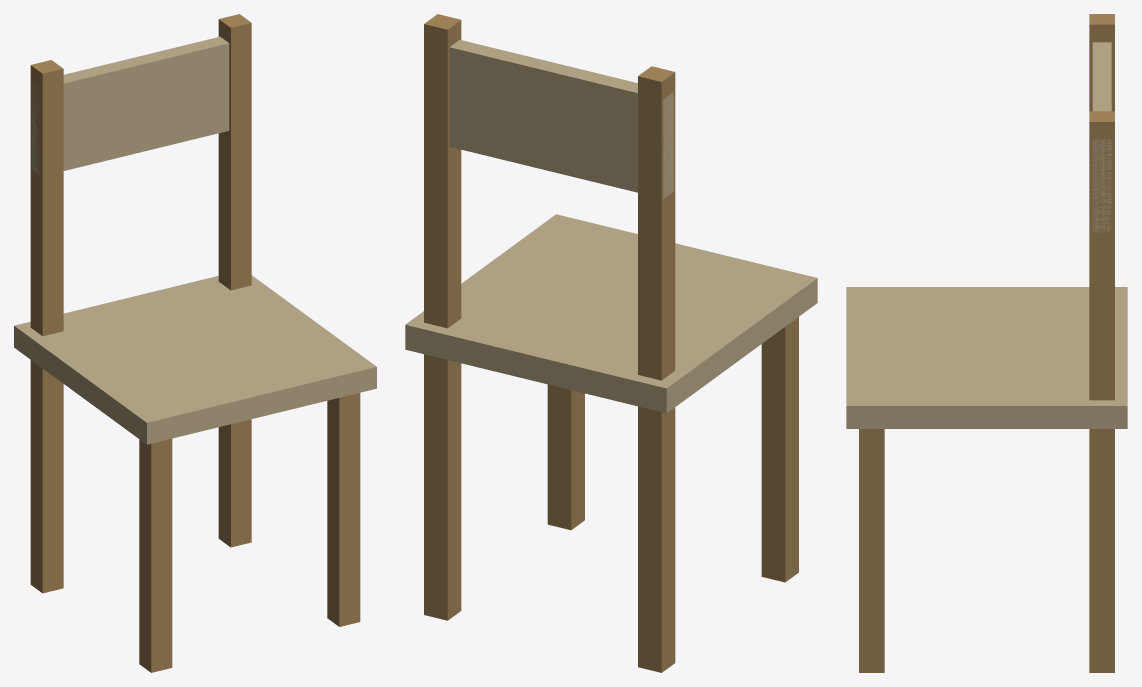
The model's file is chair.glb.
3 views of the same model, side by side, from view 1: azimuth 30°, elevation 25°; view 2: azimuth 150°, elevation 25°; view 3: azimuth 270°, elevation 25° (orthographic). The views are drawn at different scales.
Parts seen in each view (by area): view 1: chair; view 2: chair; view 3: chair.
Boxes of the visible parts, x1=… form: chair: x1=14, y1=14, x2=376, y2=672; chair: x1=405, y1=14, x2=817, y2=672; chair: x1=846, y1=14, x2=1127, y2=672.
Size of the model in its own units: 0.44 by 0.95 by 0.44.
